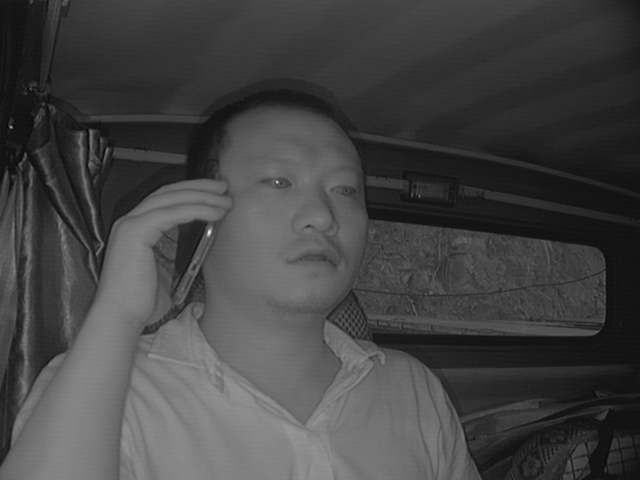hand: (103, 164, 225, 322)
